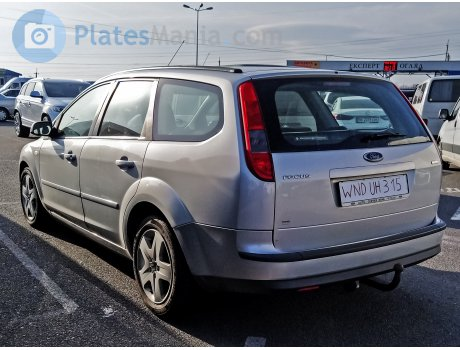License Plates: (338, 179, 409, 195)
